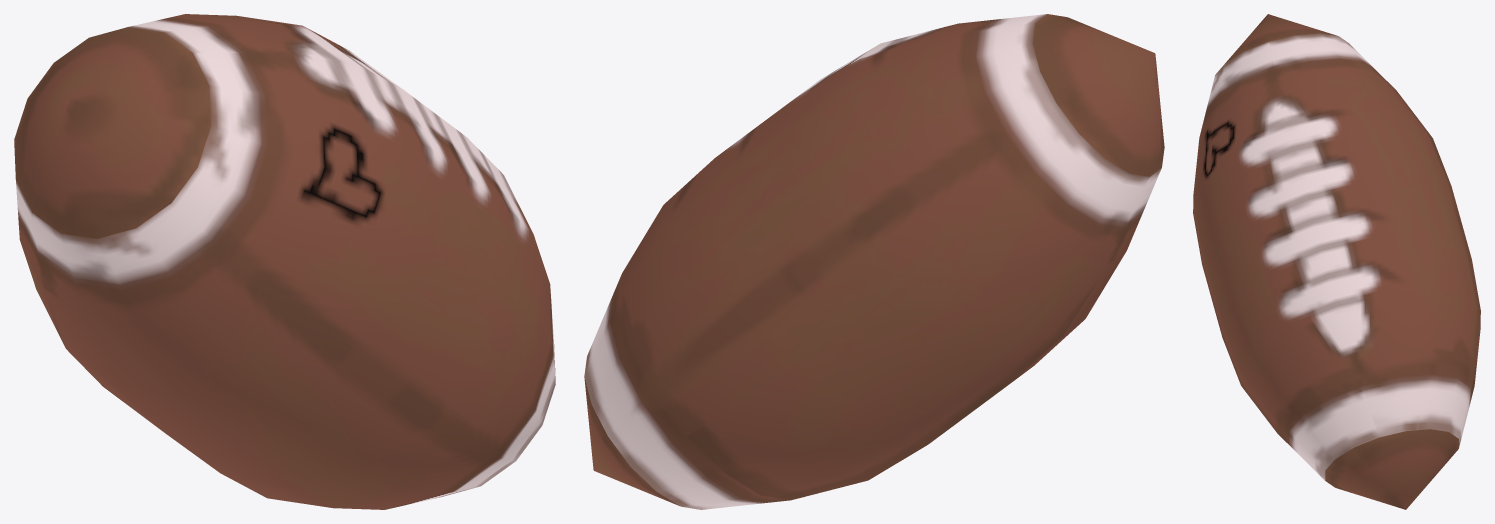
Rendered from american_ball_model.glb.
The picture shows the model from 3 angles, left to right: view 1: azimuth 30°, elevation 25°; view 2: azimuth 150°, elevation 25°; view 3: azimuth 270°, elevation 25°; orthographic projection. The views are drawn at different scales.
Parts seen in each view (by area): view 1: American_ball; view 2: American_ball; view 3: American_ball.
Part boxes in pixels (box(x1,y1,x2,y2)): American_ball: box(14, 14, 555, 509); American_ball: box(584, 14, 1164, 509); American_ball: box(1193, 14, 1480, 509).
Size of the model in its own units: 1.03 by 0.9972 by 0.722.
Materials: 1 (1 with a texture image).
